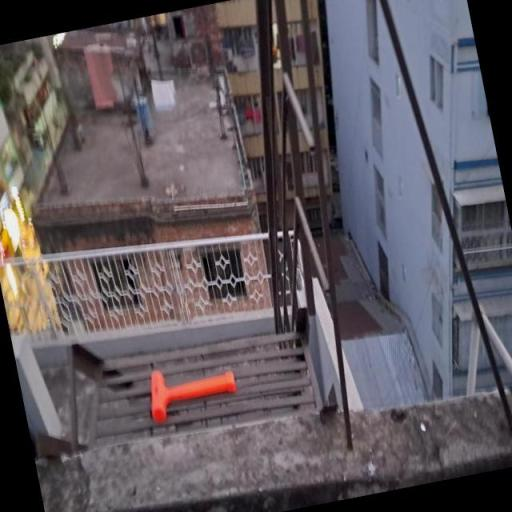mallet: (144, 356, 240, 426)
